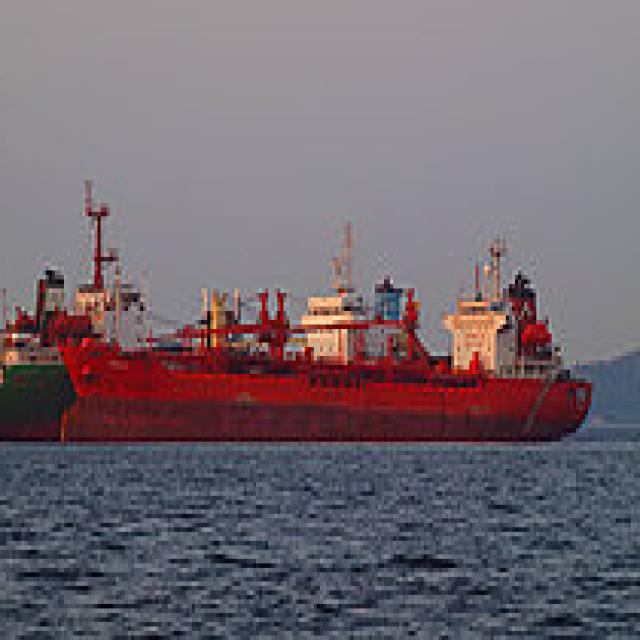Tanker: (64, 230, 597, 437), (3, 212, 384, 433), (104, 270, 164, 347)
